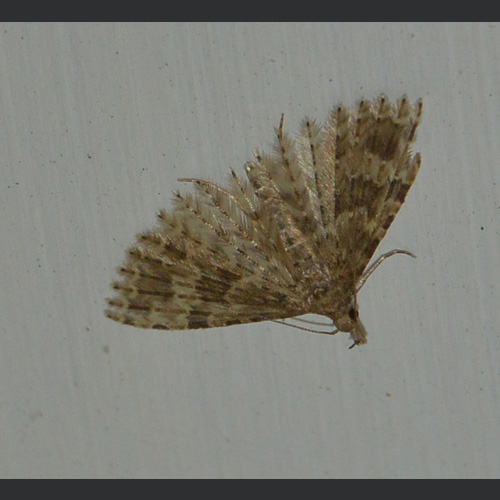Alucitidae: (97, 83, 434, 349)
moth: (99, 85, 436, 351)
